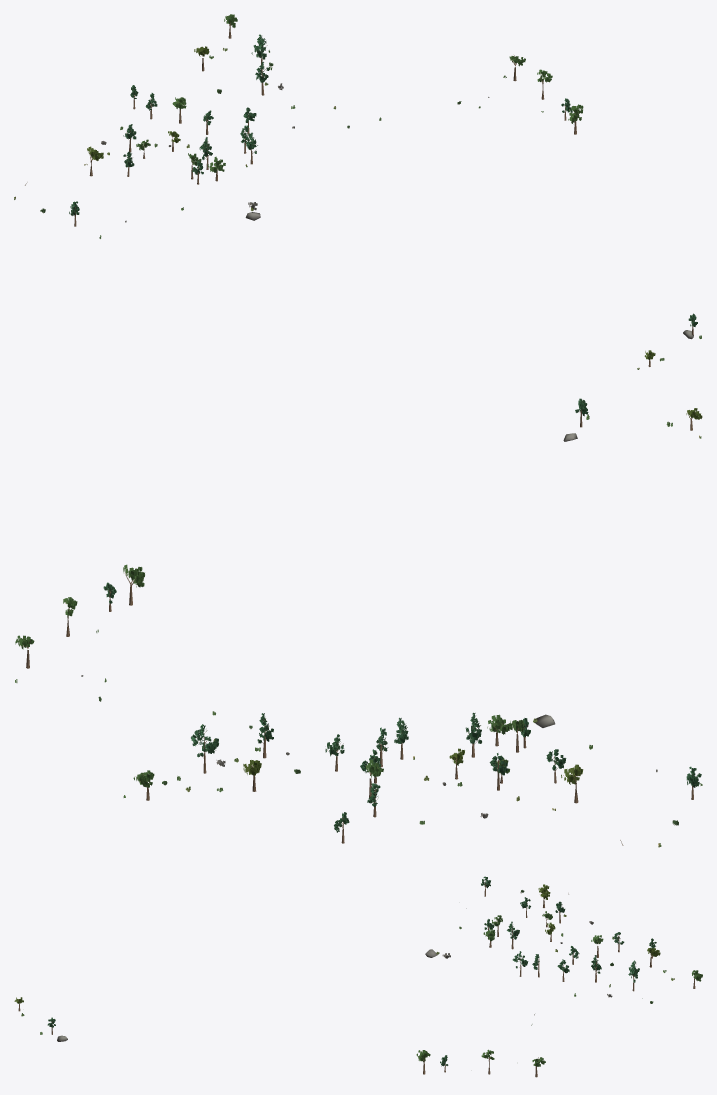
File: arch_land_scatter_c19_19.glb
3 views of the same model, one above another, from view 1: azimuth 30°, elevation 25°; view 2: azimuth 150°, elevation 25°; view 3: azimuth 270°, elevation 25° (orthographic). The views are drawn at different scales.
Visible parts, largest first — view 1: arch_land_scatter_c19_19; view 2: arch_land_scatter_c19_19; view 3: arch_land_scatter_c19_19.
Boxes of the visible parts, x1,y1,x2,y2 form: arch_land_scatter_c19_19: [14, 14, 701, 369]; arch_land_scatter_c19_19: [15, 398, 702, 847]; arch_land_scatter_c19_19: [14, 876, 702, 1077].
Size of the model in its own units: 169 by 20.51 by 248.
